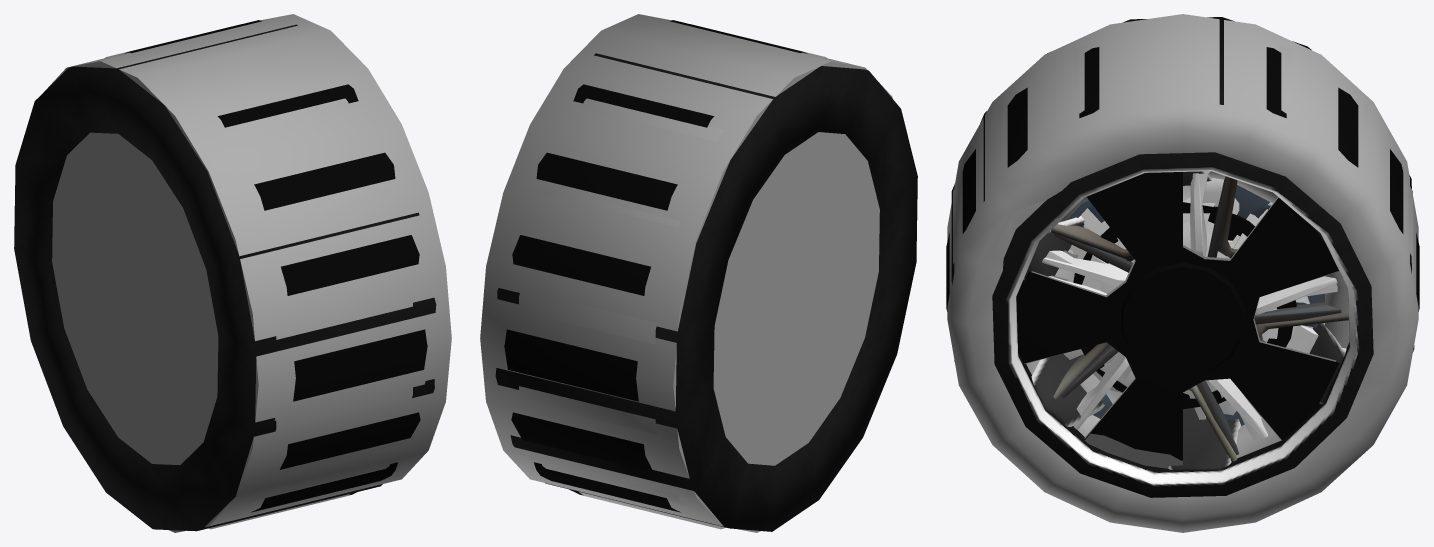
Rendered from All_wheels.fbx.
3 views of the same model, side by side, from view 1: azimuth 30°, elevation 25°; view 2: azimuth 150°, elevation 25°; view 3: azimuth 270°, elevation 25° (orthographic). The views are drawn at different scales.
Visible parts, largest first — view 1: pasted__WheelBase_FR1, Base_FL, pasted__Porche_992_wheel_F.L, pasted__Ferrari_wheel_F.L, pasted__Nissan_silvia_s15_wheel.F_L; view 2: pasted__WheelBase_FR1, Base_FL, pasted__Porche_992_wheel_F.L, pasted__Ferrari_wheel_F.L; view 3: pasted__WheelBase_FR1, Base_FL, pasted__Porche_992_wheel_F.L, pasted__Ferrari_wheel_F.L, pasted__WheelStarLF, pasted__Nissan_silvia_s15_wheel.F_L, pasted__Main_shpe.002, pasted__WheelPalmLF, pasted__WheelThreeStar_LF, pasted__WheelFlowerRF, pasted__WheelFutureLF.
Part boxes in pixels (x1,y1,x2,y2): pasted__WheelBase_FR1: (44,14,451,532); Base_FL: (14,24,436,531); pasted__Porche_992_wheel_F.L: (124,20,427,512); pasted__Ferrari_wheel_F.L: (103,24,412,529); pasted__Nissan_silvia_s15_wheel.F_L: (260,372,425,478); pasted__WheelBase_FR1: (480,14,892,532); Base_FL: (495,53,917,531); pasted__Porche_992_wheel_F.L: (504,20,807,512); pasted__Ferrari_wheel_F.L: (519,24,828,529); pasted__WheelBase_FR1: (947,14,1418,532); Base_FL: (951,17,1414,497); pasted__Porche_992_wheel_F.L: (946,47,1419,461); pasted__Ferrari_wheel_F.L: (953,44,1412,455); pasted__WheelStarLF: (1031,171,1337,440); pasted__Nissan_silvia_s15_wheel.F_L: (1026,171,1349,458); pasted__Main_shpe.002: (990,200,1338,468); pasted__WheelPalmLF: (1080,206,1313,407); pasted__WheelThreeStar_LF: (1080,178,1318,392); pasted__WheelFlowerRF: (1069,197,1309,414); pasted__WheelFutureLF: (1104,214,1276,419).
Size of the model in its own units: 45.68 by 90.66 by 90.57.
Materials: 32 (6 with a texture image).
